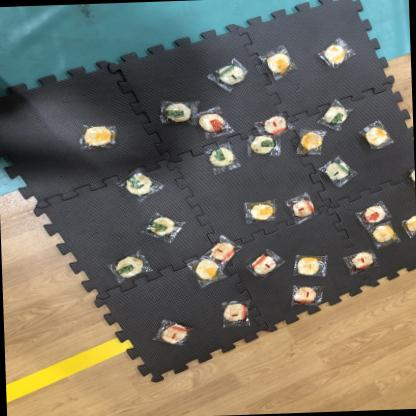green_setoshio: (116, 168, 166, 208), (140, 212, 188, 246), (108, 252, 152, 286), (158, 97, 202, 128), (210, 58, 250, 90), (201, 145, 243, 173), (318, 158, 356, 188), (244, 134, 286, 158), (322, 102, 352, 128), (406, 164, 416, 190)
red_setoshio: (151, 318, 196, 350), (282, 190, 324, 224), (245, 246, 284, 281), (220, 298, 260, 330), (198, 108, 238, 138), (342, 245, 383, 274), (286, 282, 324, 310), (206, 234, 240, 262), (254, 113, 295, 136), (362, 202, 392, 223)
yellow_setoshio: (315, 37, 357, 73), (260, 44, 298, 80), (78, 121, 119, 154), (291, 126, 328, 156), (239, 198, 280, 224), (360, 120, 393, 150), (293, 252, 331, 278), (190, 258, 222, 288), (370, 224, 400, 248), (401, 210, 416, 236)
